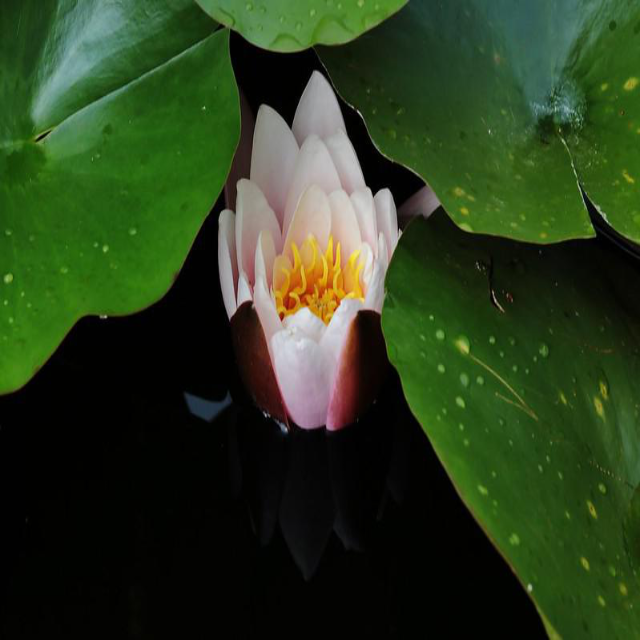water_lily: (205, 73, 406, 456)
